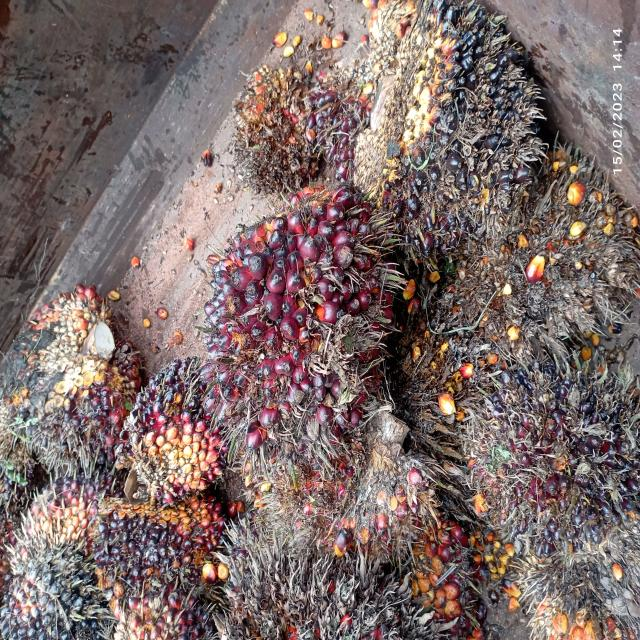fraksi 00: (448, 312, 640, 572), (356, 0, 552, 247), (111, 308, 243, 536), (19, 285, 153, 494), (85, 473, 242, 640), (0, 463, 114, 640)
fraksi 1: (169, 179, 416, 482)
fraksi 4: (215, 54, 366, 191)
